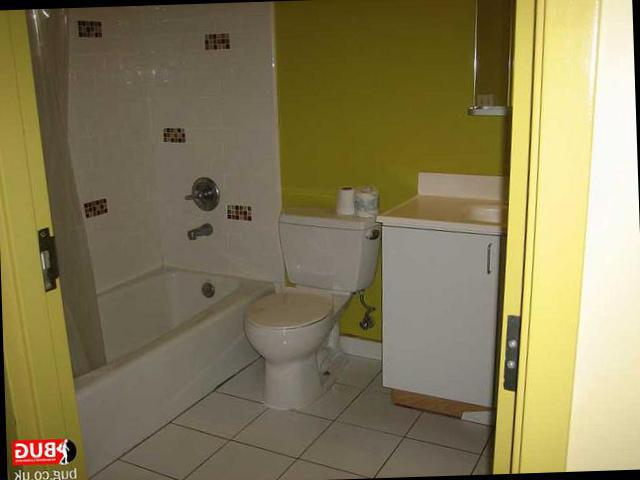Sanitario: (232, 204, 375, 412)
